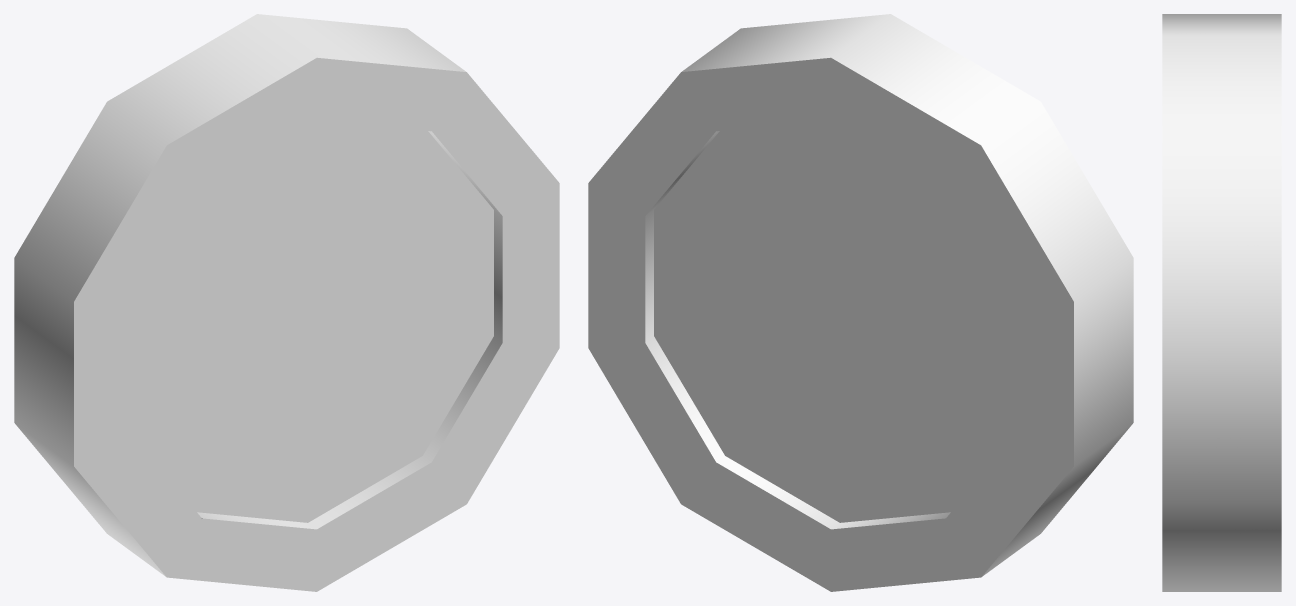
The model's file is Coin.fbx.
The picture shows the model from 3 angles, left to right: view 1: azimuth 30°, elevation 25°; view 2: azimuth 150°, elevation 25°; view 3: azimuth 270°, elevation 25°; orthographic projection.
Visible parts, largest first — view 1: Coin; view 2: Coin; view 3: Coin.
Part boxes in pixels (left/top/right/bottom): Coin: left=14, top=14, right=559, bottom=591; Coin: left=588, top=14, right=1133, bottom=591; Coin: left=1162, top=14, right=1281, bottom=591.
Bounding box in the file's own units: 1.9 × 2 × 0.4057.
Materials: 1 (1 with a texture image).
